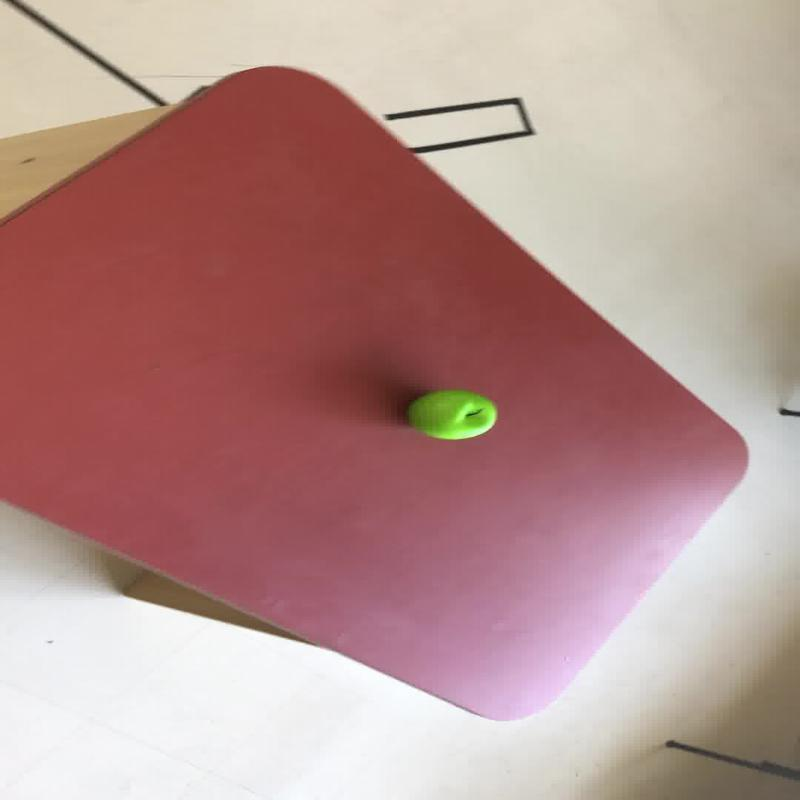apple: (404, 388, 497, 439)
